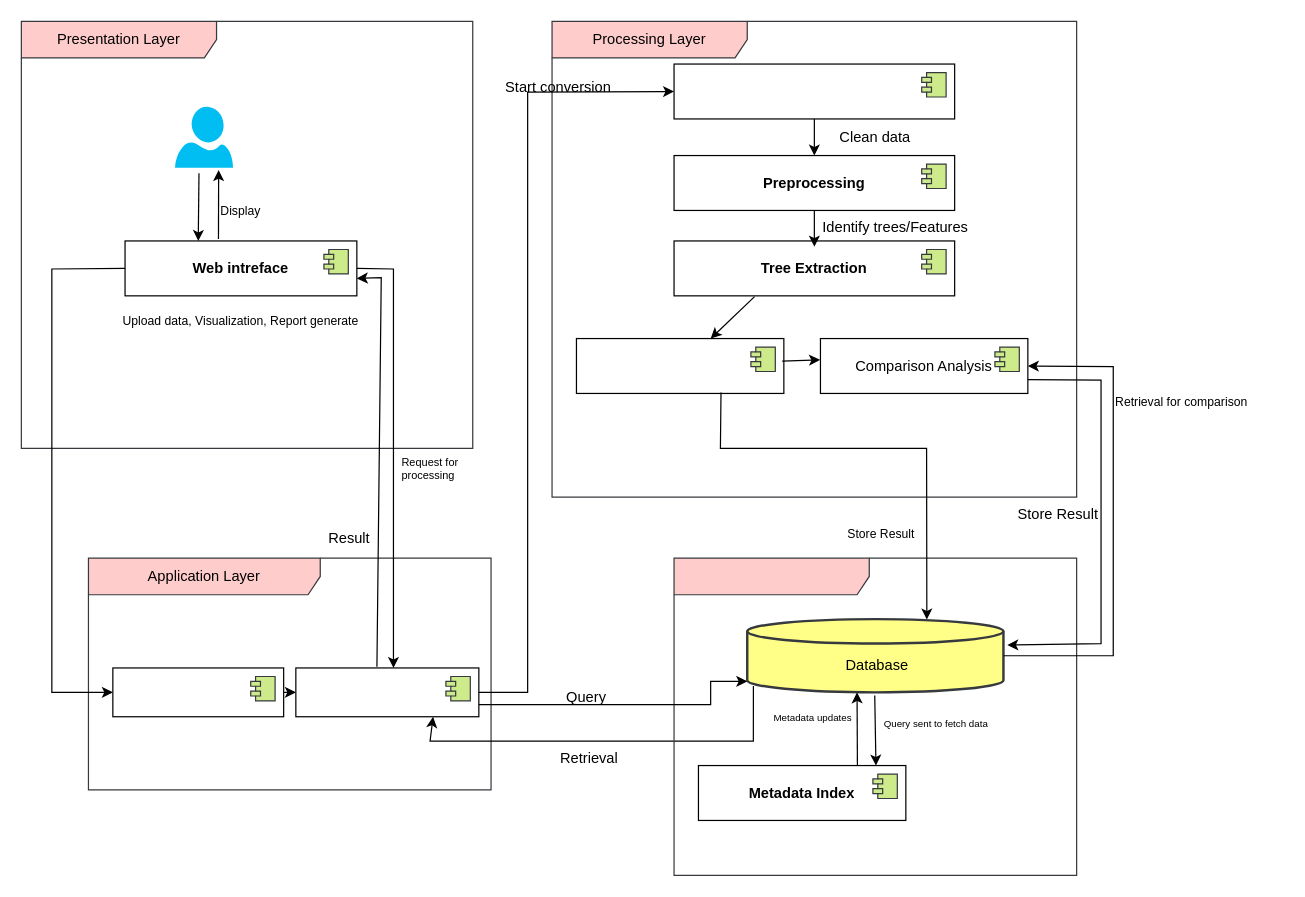
This 1305x897 diagram has some shape labels left out. Here are the shapes that lost their labels. From the top down, the box of each, then its label:
(673, 63, 955, 119): Convertor
(575, 337, 784, 393): Allometric Models
(112, 667, 284, 717): Data Acquisition Manager
(295, 667, 479, 717): Workflow Controller
(673, 557, 1077, 875): Data Layer
